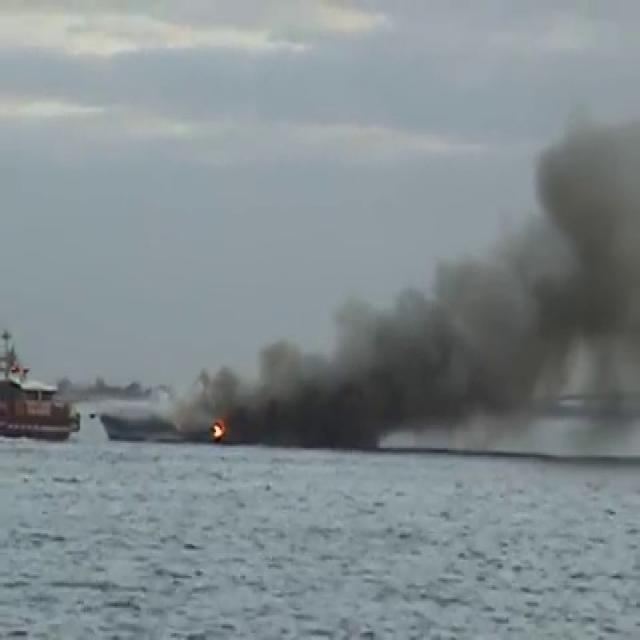Smoke: (190, 66, 640, 453)
